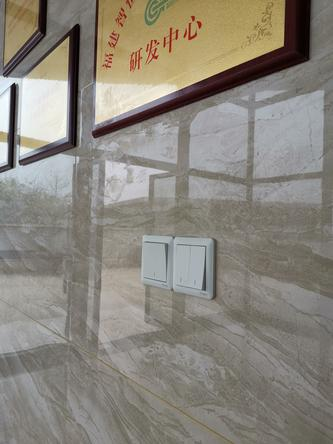switch: (140, 238, 169, 284), (187, 241, 209, 292), (172, 239, 192, 289)
